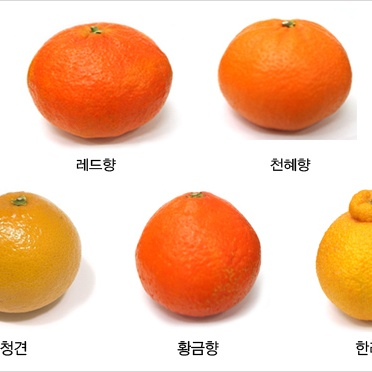mandarin: (24, 20, 174, 138), (214, 19, 354, 141), (135, 186, 261, 317), (1, 191, 83, 312)
